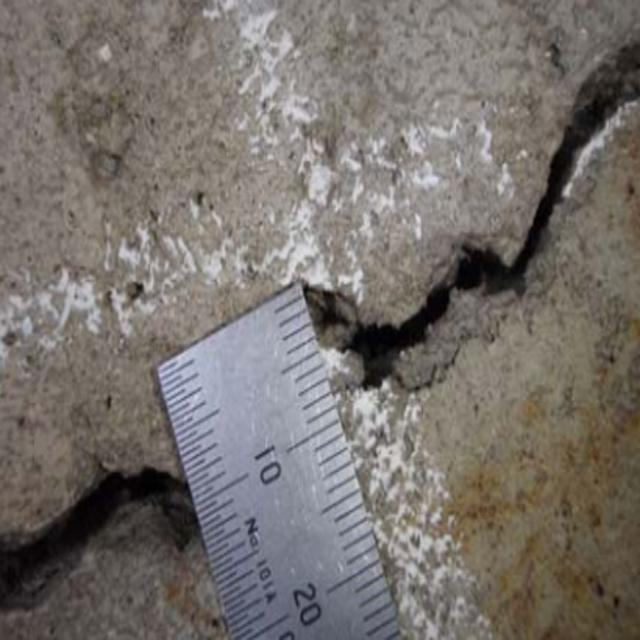crack: (323, 23, 640, 366), (11, 460, 200, 614)
